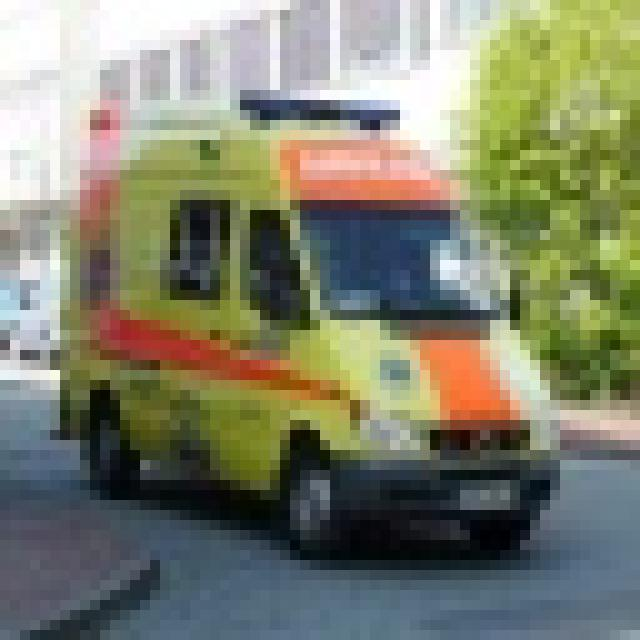Ambulance: (50, 80, 560, 550)
